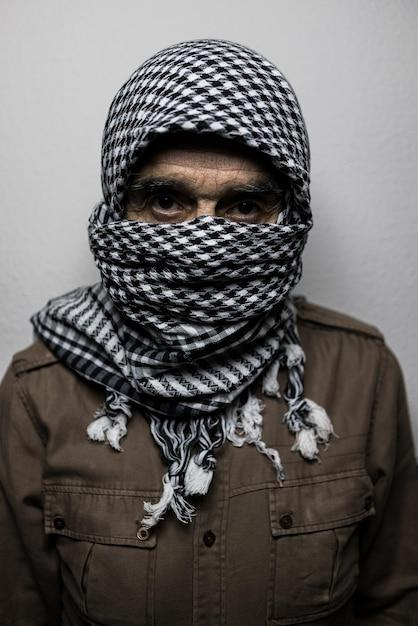scarf-kerchief: (43, 20, 362, 407)
